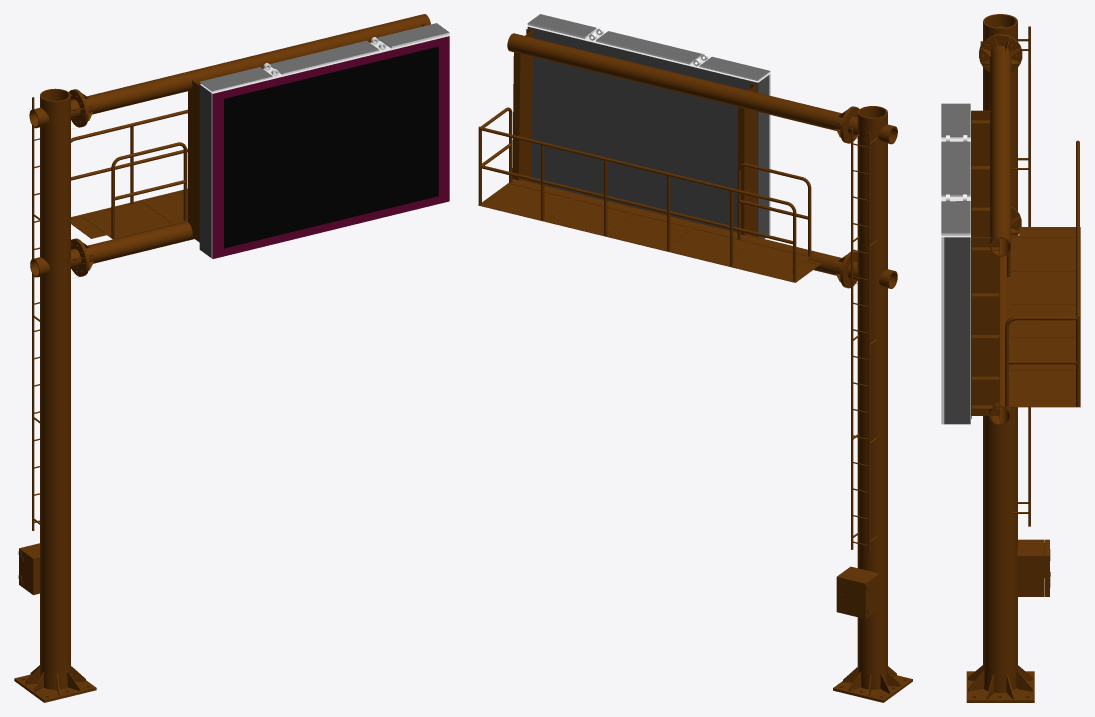
3 views of the same model, side by side, from view 1: azimuth 30°, elevation 25°; view 2: azimuth 150°, elevation 25°; view 3: azimuth 270°, elevation 25° (orthographic). The views are drawn at different scales.
Parts seen in each view (by area): view 1: SketchUp (×7), group_2 (×2), group_0 (×2), group_13 (×2), group_22, group_19, group_23, group_1, group_11; view 2: SketchUp (×5), group_2 (×2), group_13 (×2), group_0 (×2), group_11, group_19 (×2), group_21, group_22, group_23, group_1, group_12; view 3: group_2 (×3), group_13 (×2), SketchUp (×5), group_0 (×4), group_21 (×5), group_22 (×4), group_23, group_12 (×2), group_19, group_11.
Part boxes in pixels (x1,y1,x2,y2): SketchUp (×7): [199, 23, 449, 258]; group_2 (×2): [14, 88, 96, 702]; group_0 (×2): [85, 14, 430, 263]; group_13 (×2): [71, 188, 187, 239]; group_22: [188, 80, 199, 242]; group_19: [32, 97, 34, 530]; group_23: [18, 543, 39, 595]; group_1: [111, 142, 187, 238]; group_11: [71, 109, 187, 180]; SketchUp (×5): [527, 14, 770, 238]; group_2 (×2): [833, 106, 912, 702]; group_13 (×2): [478, 182, 821, 282]; group_0 (×2): [507, 33, 842, 275]; group_11: [478, 126, 796, 281]; group_19 (×2): [851, 128, 870, 553]; group_21: [512, 29, 532, 181]; group_22: [738, 84, 756, 236]; group_23: [836, 566, 879, 618]; group_1: [737, 163, 811, 256]; group_12: [478, 107, 512, 205]; group_2 (×3): [966, 14, 1034, 702]; group_13 (×2): [1005, 227, 1080, 407]; SketchUp (×5): [941, 103, 970, 424]; group_0 (×4): [979, 35, 1022, 425]; group_21 (×5): [971, 237, 999, 418]; group_22 (×4): [971, 110, 991, 237]; group_23: [1017, 539, 1049, 596]; group_12 (×2): [1005, 316, 1079, 407]; group_19: [1028, 36, 1030, 526]; group_11: [1076, 140, 1079, 406].
Bounding box in the file's own units: 210 × 56.29 × 298.
